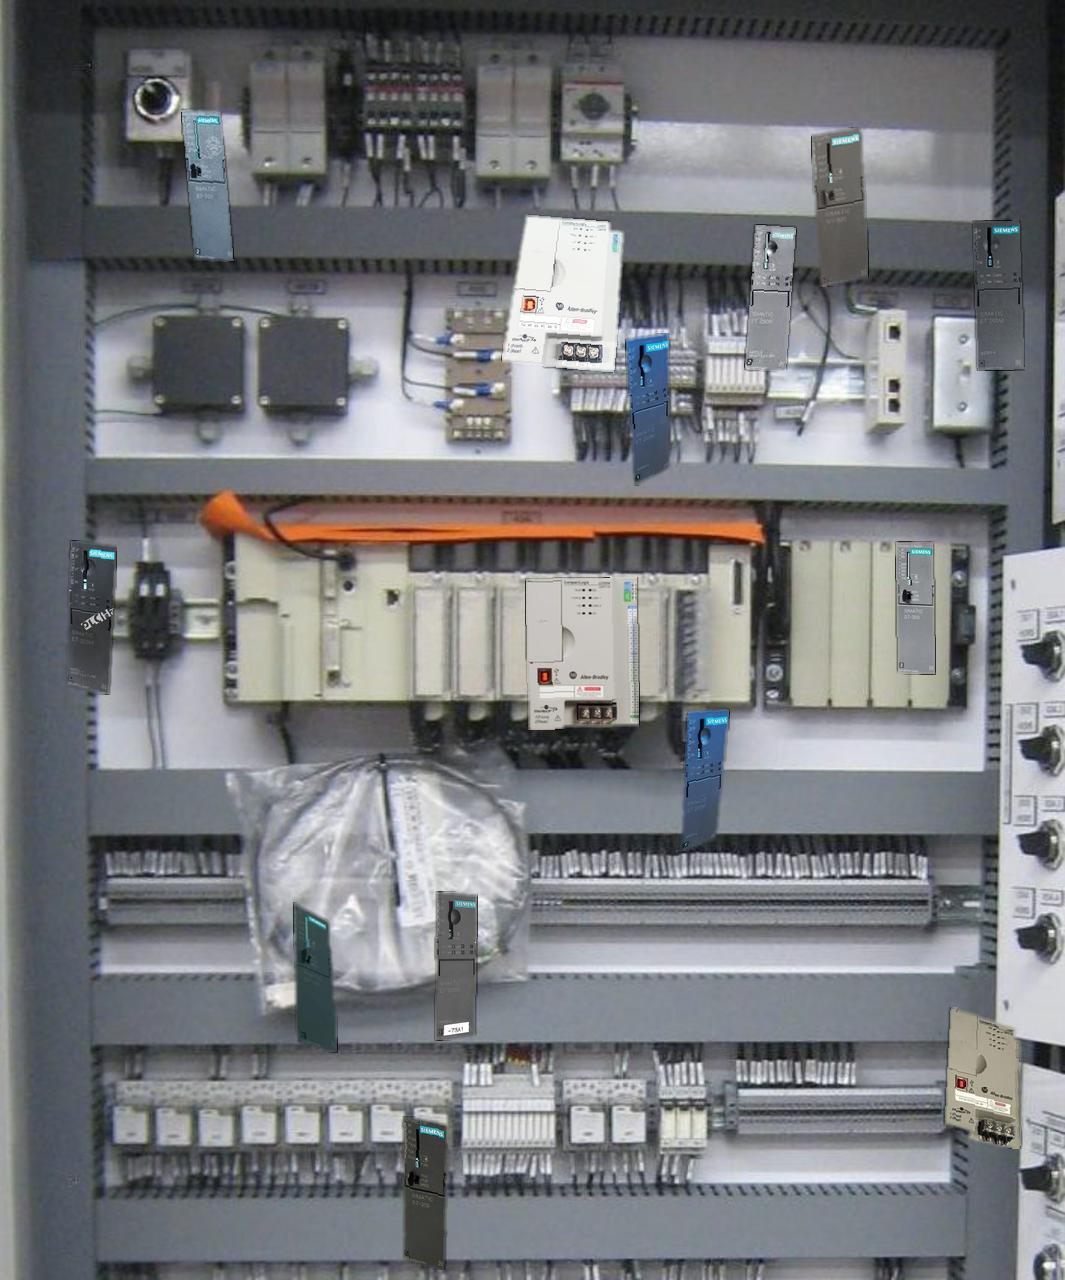AllenBradley: (502, 215, 622, 371), (526, 577, 638, 729), (945, 1007, 1020, 1148)
Siemens: (812, 127, 867, 286), (181, 110, 233, 260), (403, 1116, 446, 1269), (294, 903, 336, 1051), (896, 542, 934, 673)
